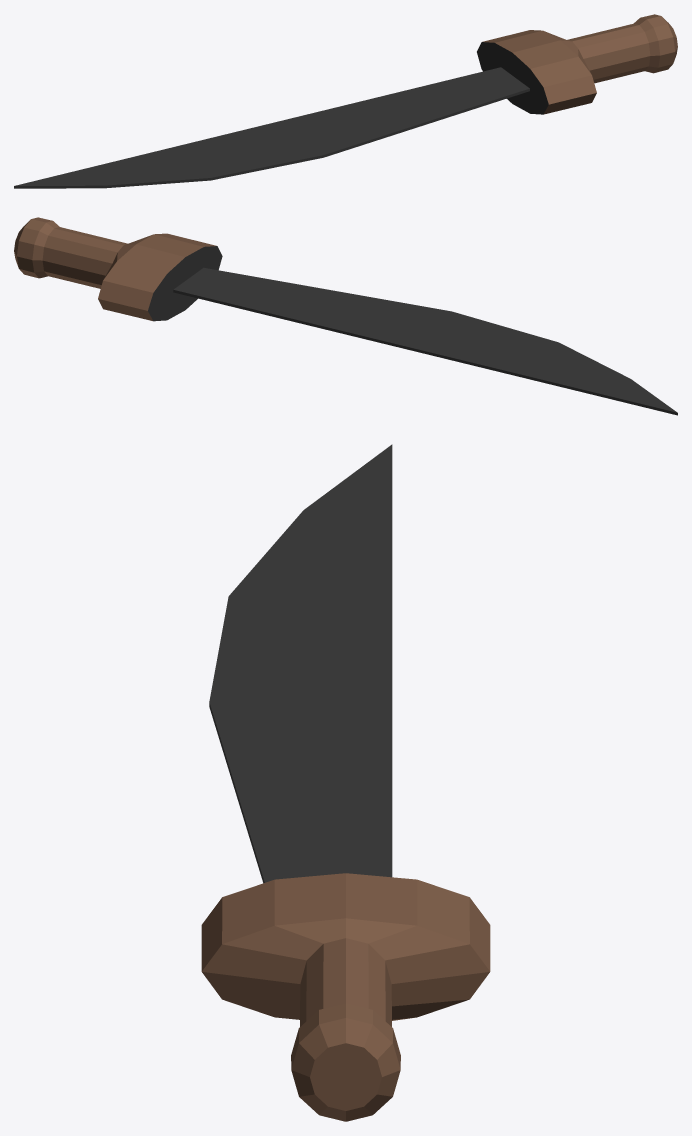
Rendered from Witch_Swoard_Vertical.fbx.
The picture shows the model from 3 angles, top to bottom: view 1: azimuth 30°, elevation 25°; view 2: azimuth 150°, elevation 25°; view 3: azimuth 270°, elevation 25°; orthographic projection. The views are drawn at different scales.
Visible parts, largest first — view 1: Swoard_Vertical; view 2: Swoard_Vertical; view 3: Swoard_Vertical.
Part boxes in pixels (x1,y1,x2,y2): Swoard_Vertical: (14, 14, 677, 188); Swoard_Vertical: (14, 217, 677, 415); Swoard_Vertical: (201, 444, 490, 1121).
Size of the model in its own units: 157 by 12.31 by 30.58.
